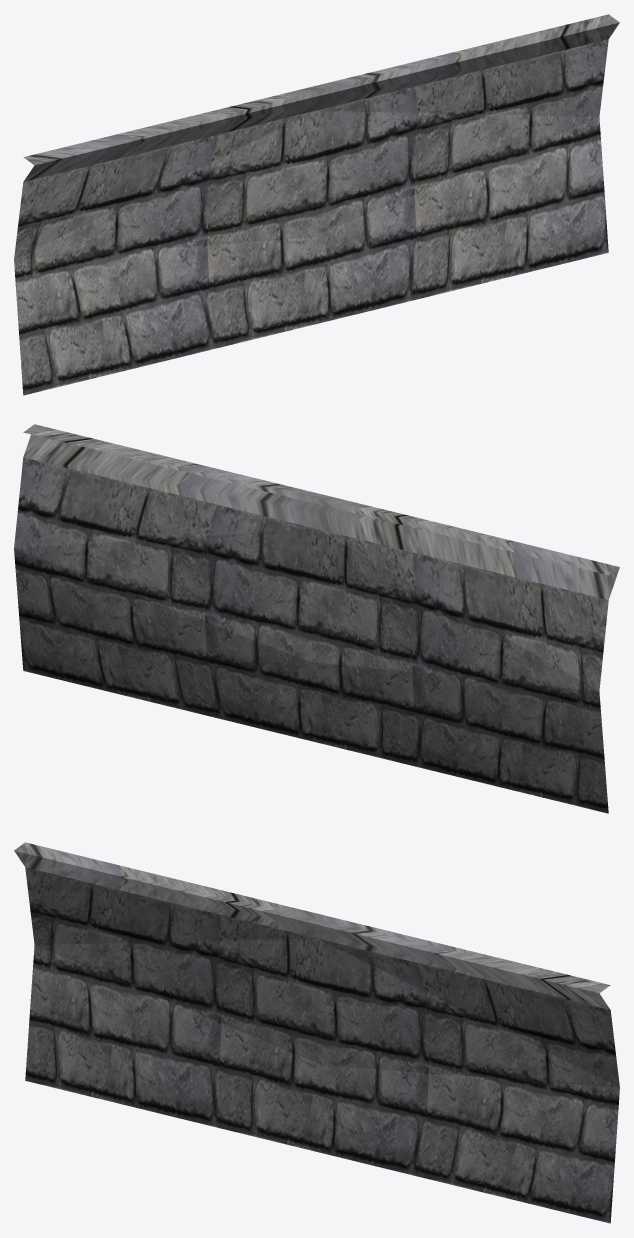
Rendered from W_A3_xxxx [Schalsteine]_470.glb.
The picture shows the model from 3 angles, top to bottom: view 1: azimuth 30°, elevation 25°; view 2: azimuth 150°, elevation 25°; view 3: azimuth 330°, elevation 25°; orthographic projection.
Parts seen in each view (by area): view 1: polySurfaceShape787, polySurfaceShape1065; view 2: polySurfaceShape787, polySurfaceShape1065; view 3: polySurfaceShape787, polySurfaceShape1065.
Part boxes in pixels (bbox=[...]): polySurfaceShape787: bbox=[14, 39, 608, 395]; polySurfaceShape1065: bbox=[23, 14, 619, 181]; polySurfaceShape787: bbox=[14, 457, 608, 813]; polySurfaceShape1065: bbox=[23, 424, 619, 599]; polySurfaceShape787: bbox=[25, 867, 619, 1223]; polySurfaceShape1065: bbox=[14, 842, 610, 1009].
Size of the model in its own units: 1 by 0.3891 by 0.0607.
2 materials, 2 textured.
